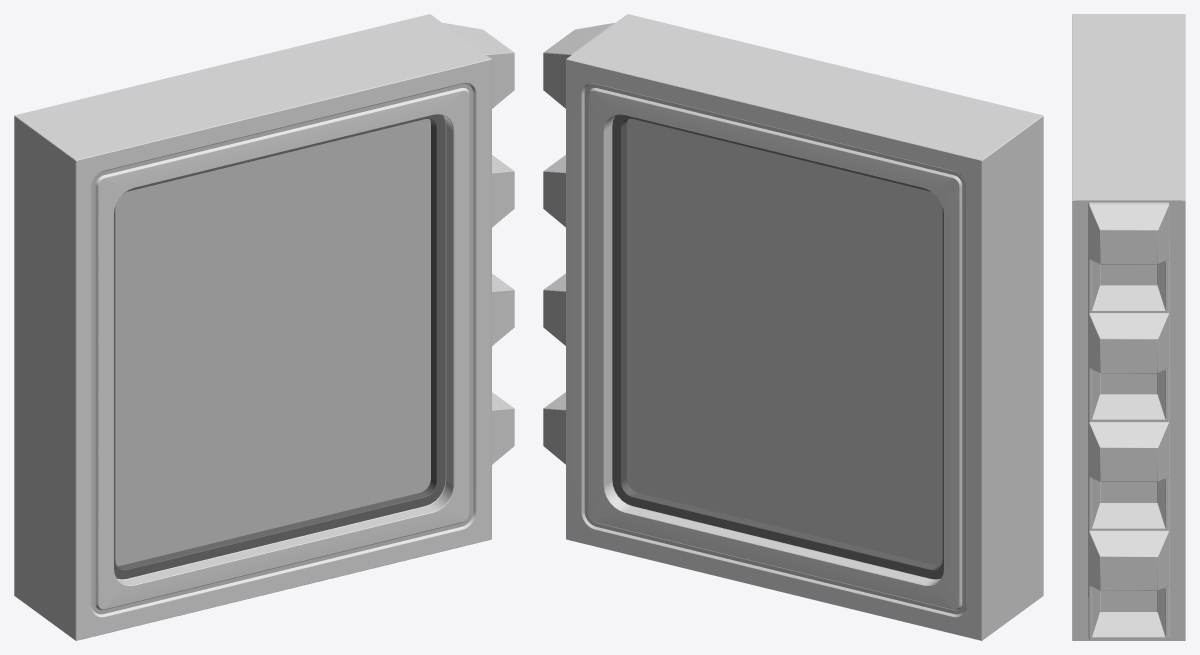
Rendered from SM_Arc_GarageDoorRight_B_V3.fbx.
3 views of the same model, side by side, from view 1: azimuth 30°, elevation 25°; view 2: azimuth 150°, elevation 25°; view 3: azimuth 270°, elevation 25° (orthographic). The views are drawn at different scales.
Visible parts, largest first — view 1: SM_Arc_GarageDoorRight_B_V3; view 2: SM_Arc_GarageDoorRight_B_V3; view 3: SM_Arc_GarageDoorRight_B_V3.
Boxes of the visible parts, left/top/right/bottom form: SM_Arc_GarageDoorRight_B_V3: left=14, top=14, right=514, bottom=640; SM_Arc_GarageDoorRight_B_V3: left=543, top=14, right=1043, bottom=640; SM_Arc_GarageDoorRight_B_V3: left=1072, top=14, right=1185, bottom=640.
Size of the model in its own units: 923 by 218 by 933.
4 materials, 2 textured.
